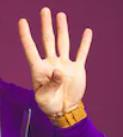right: (15, 3, 95, 113)
